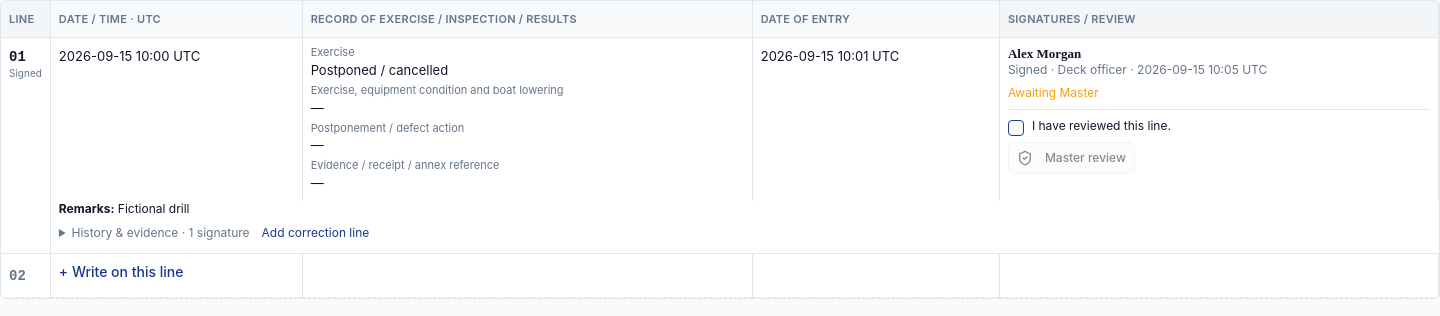
Test case: RuledSheet › locks signed lines, shows the signatures beside them and offers Master review to the Master
Later steps or results of the test are not shown.
Expected: the text "Signed · Deck officer · 2026-09-15 10:05 UTC" is shown, [1008,62,1267,77]
Expected: the text "Awaiting Master" is shown, [1008,85,1099,100]
Click the checkbox at (1016, 128), box [1008,120,1024,136]
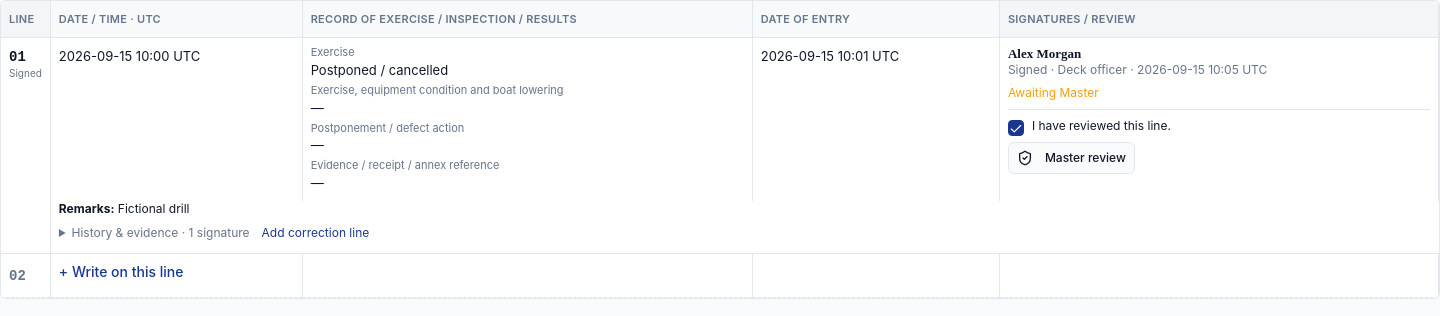
Expected: the button "Master review" is enabled, [1008,142,1135,174]
